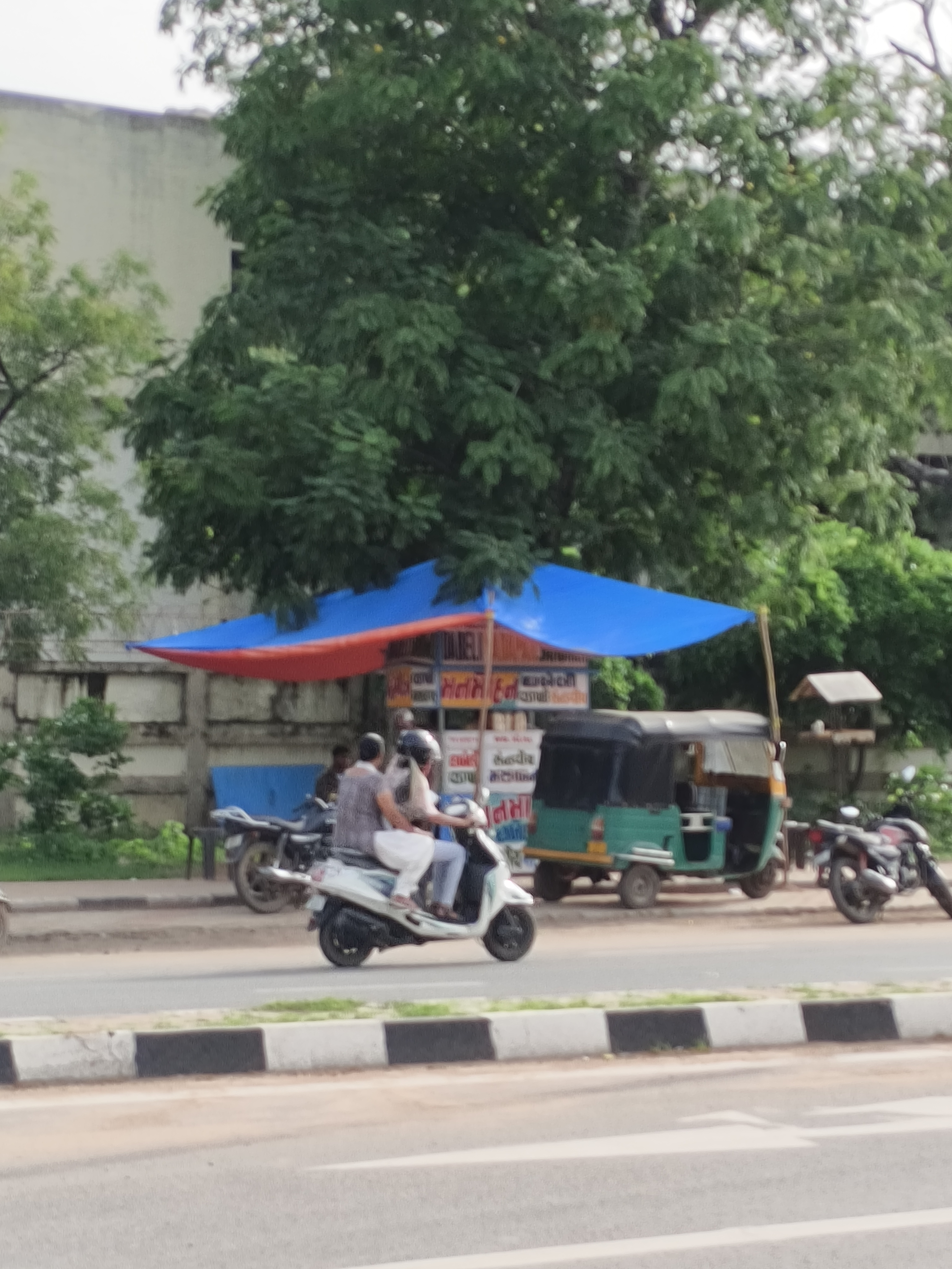BikeWithRider: (263, 718, 566, 974)
Helmet: (390, 721, 442, 779)
NoHelmet: (346, 724, 387, 776)
